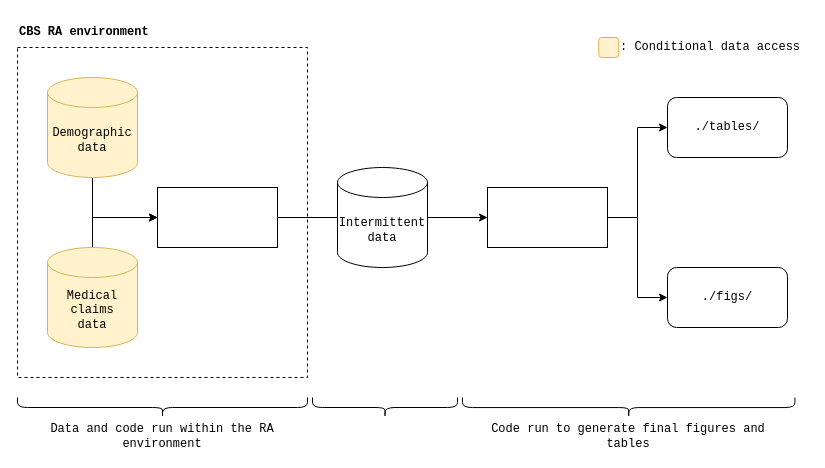
This 825x468 diagram has some shape labels left out. The box of each missing label's shape, as (x1, y1, x2, y2) in pixels:
./src/: (486, 186, 608, 248)
./src_ra/: (156, 186, 278, 248)
Data exported from the RA environment: (312, 396, 458, 418)
